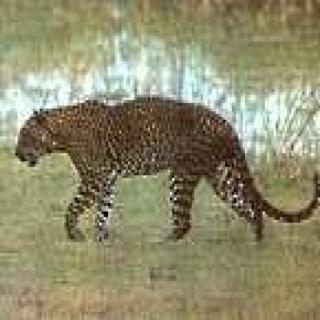Leopard: (13, 61, 320, 249)
